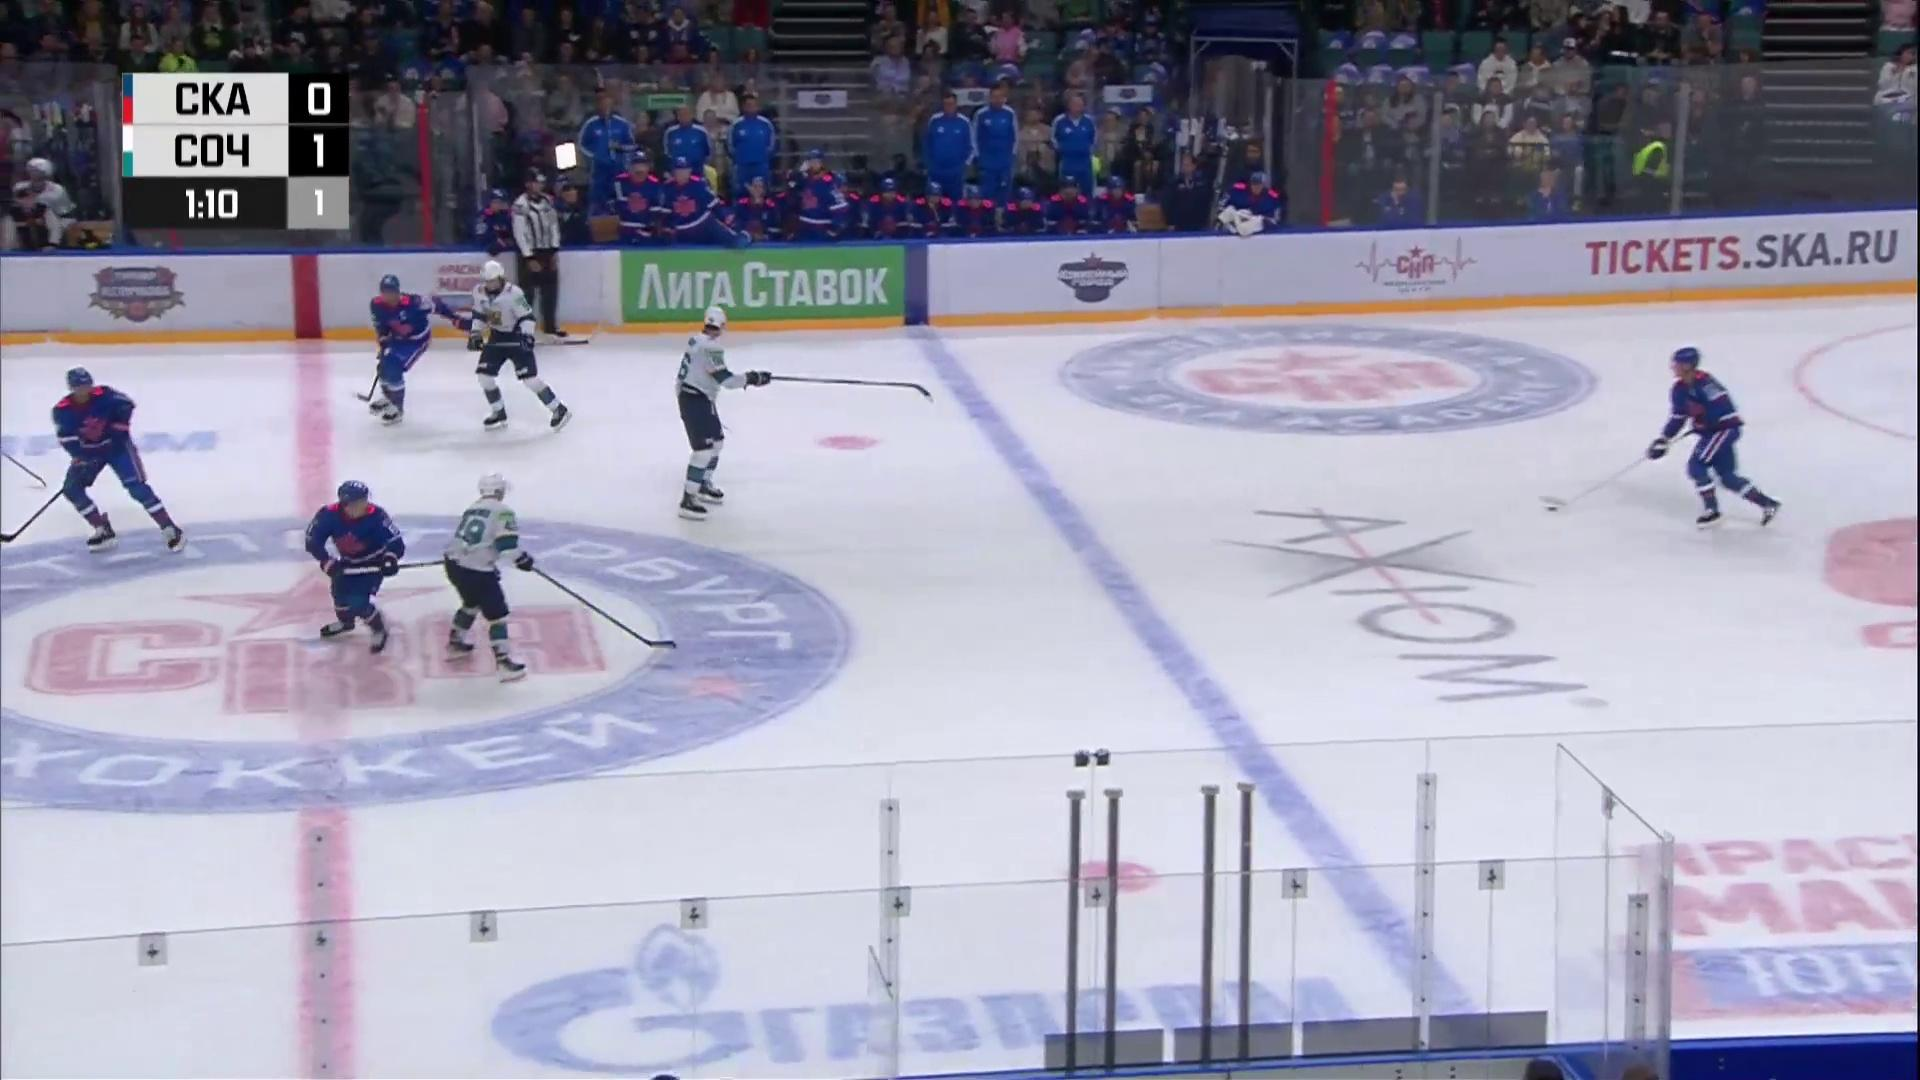ball: (1545, 506, 1559, 512)
